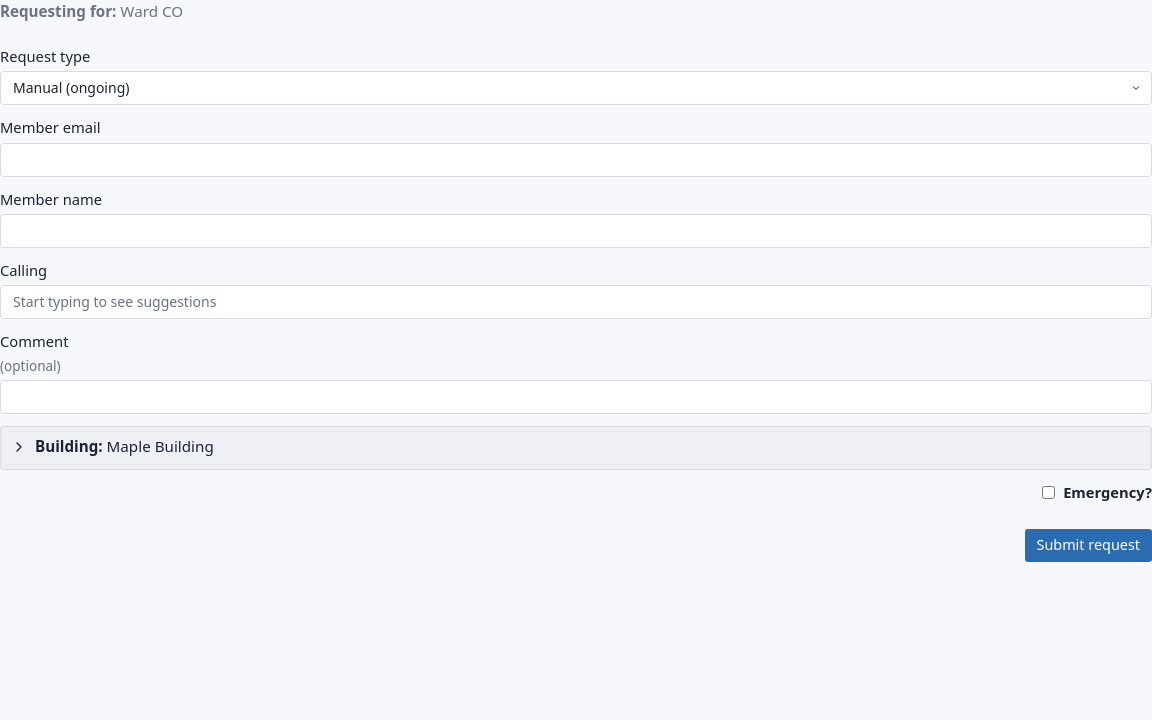
Test case: <NewRequestForm /> — cross-ward comment-required rule › blocks submit with an inline error when a cross-ward selection is missing the comment
Click the button with test id "new-request-buildings-trigger".
click(69, 446)  # box [11,435,1141,458]
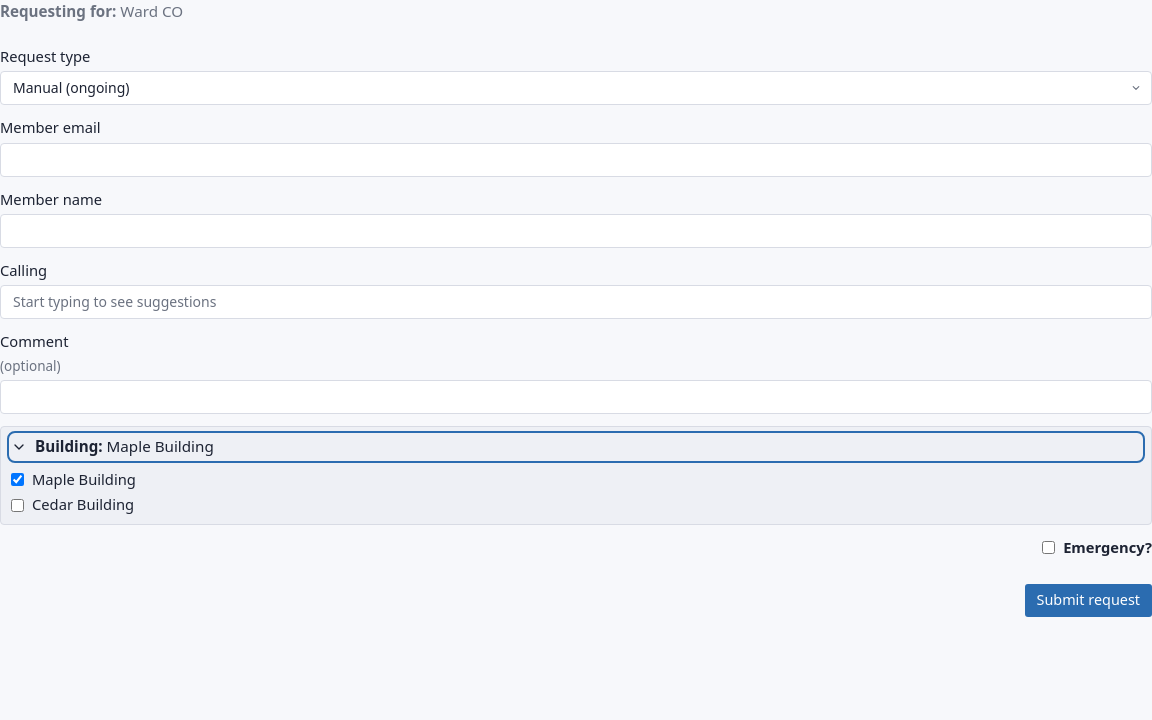
Click the checkbox with test id "new-request-building-cedar".
click(18, 505)  # box [11,499,24,512]
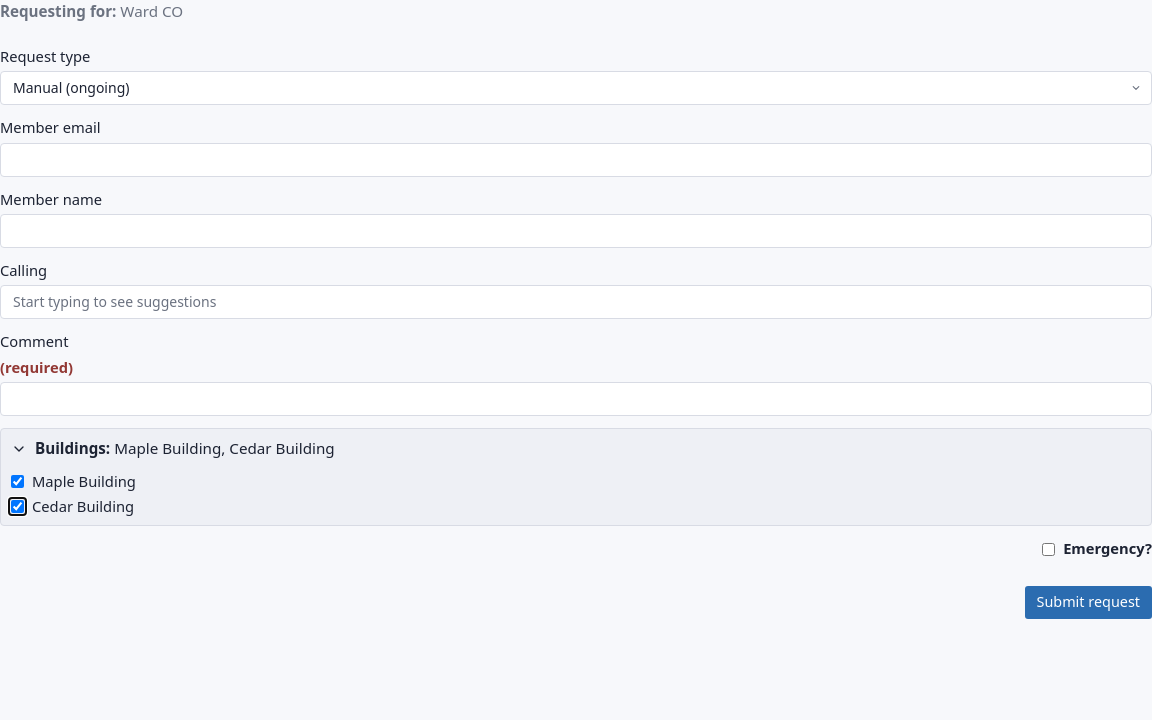
Type "bob@example.com" into the field with test id "new-request-email".
click(576, 160); type("bob@example.com")  # box [0,143,1151,177]
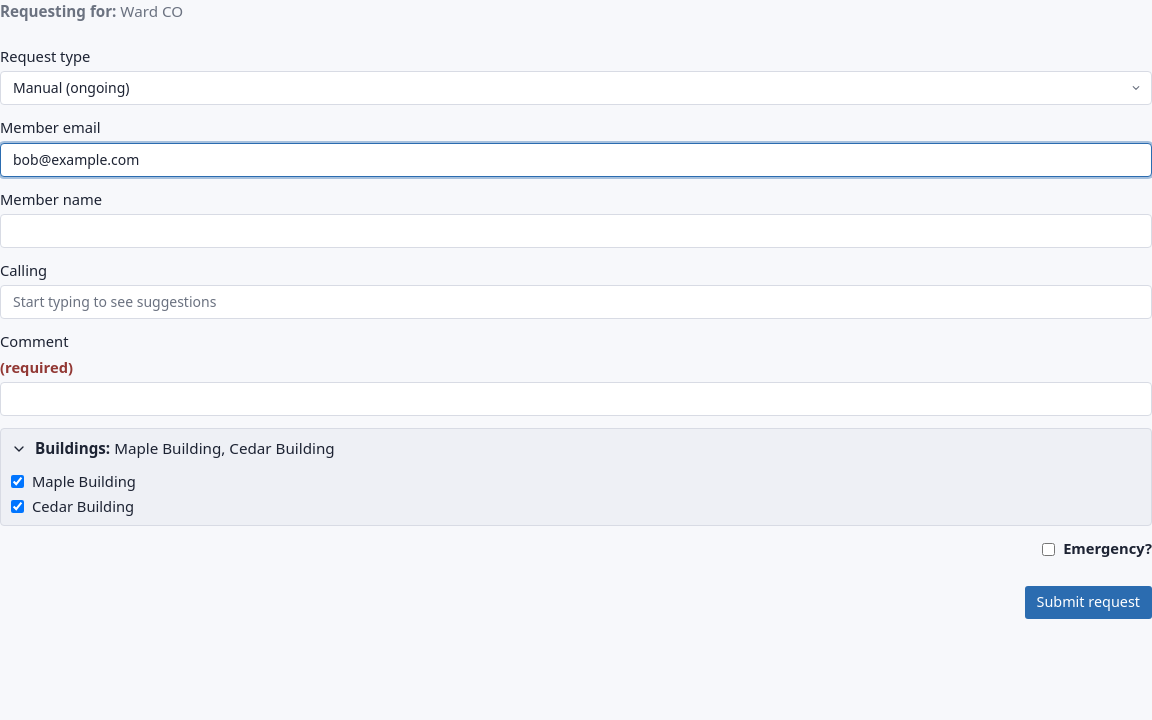
Type "Bob" into the field with test id "new-request-name".
click(576, 231); type("Bob")  # box [0,214,1151,248]
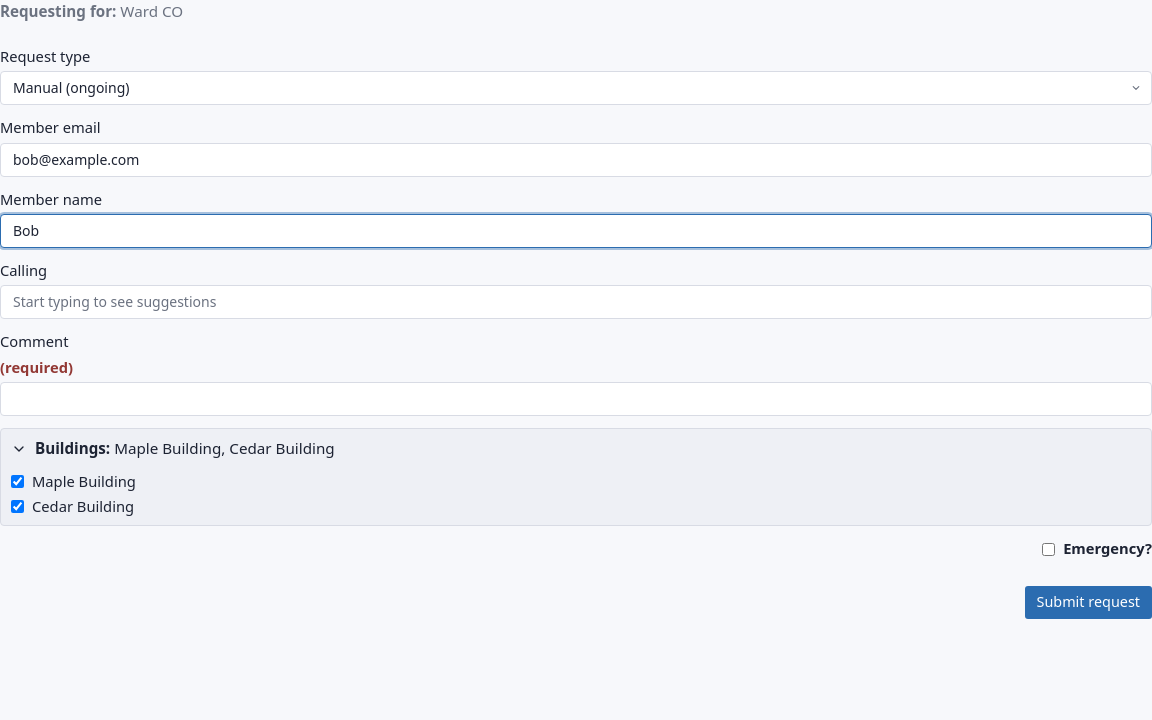
Type "visit" into the field with test id "new-request-reason".
click(576, 302); type("visit")  # box [0,285,1151,319]
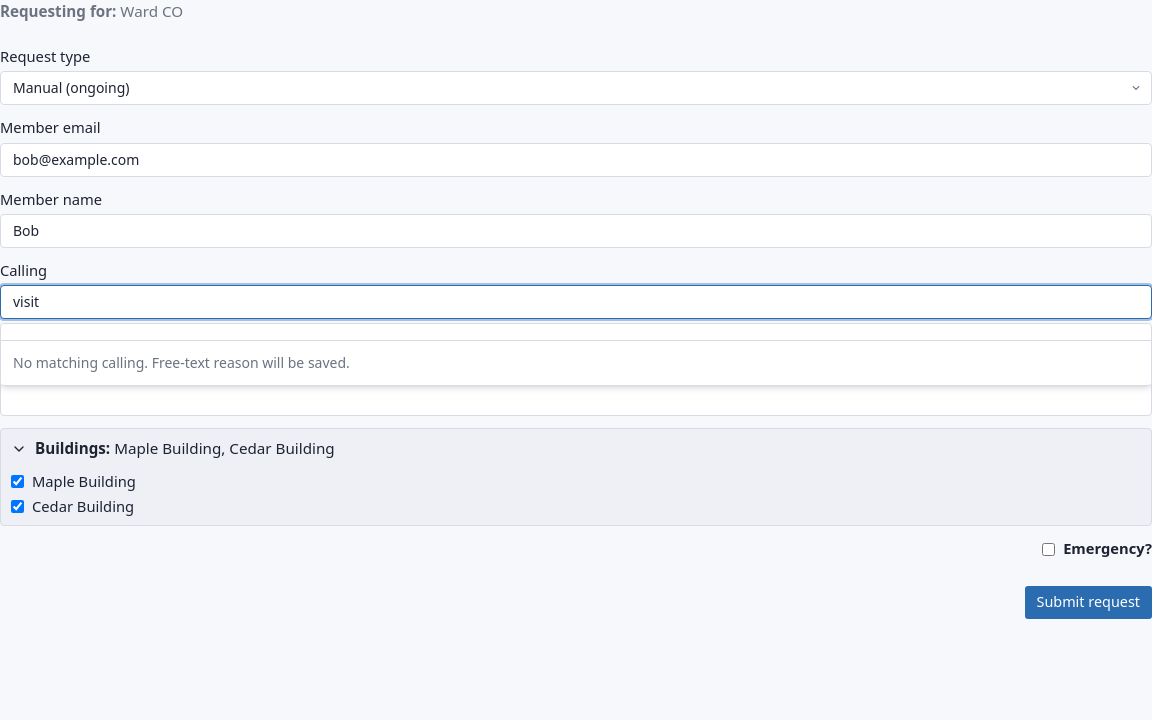
Click the button with test id "new-request-submit".
click(1088, 602)  # box [1024,586,1151,619]
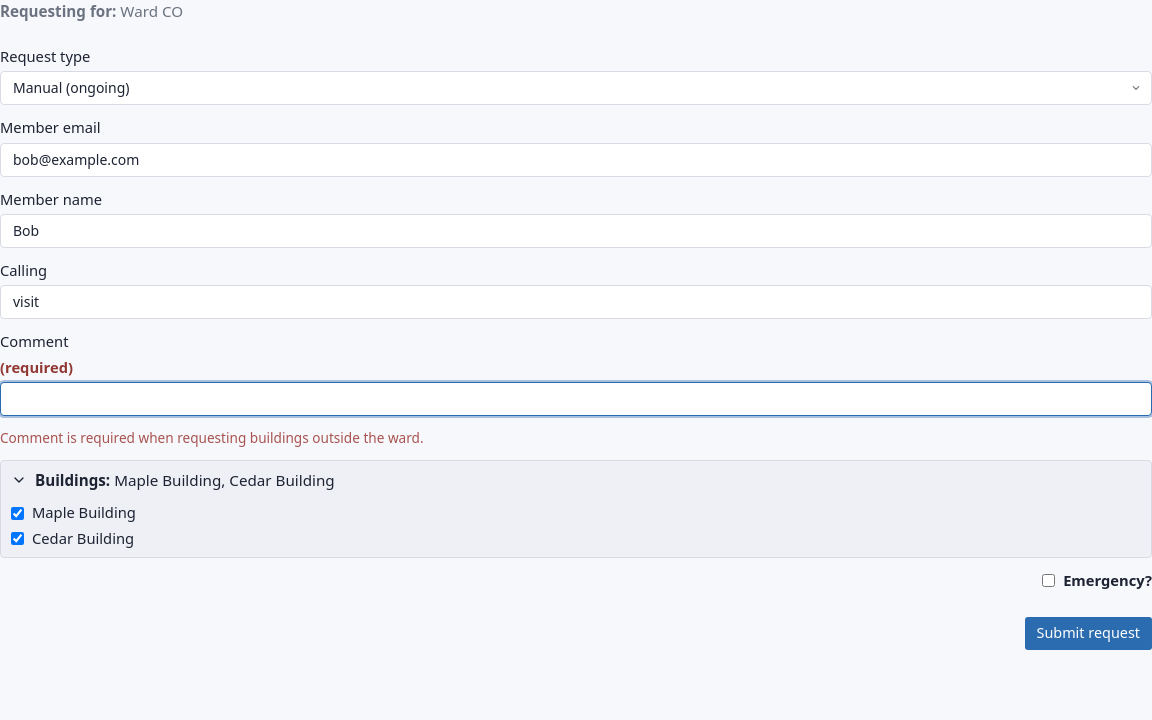
Result: the text "Comment is required when requesting buildings outside the ward." is shown at [0,428,424,447]
